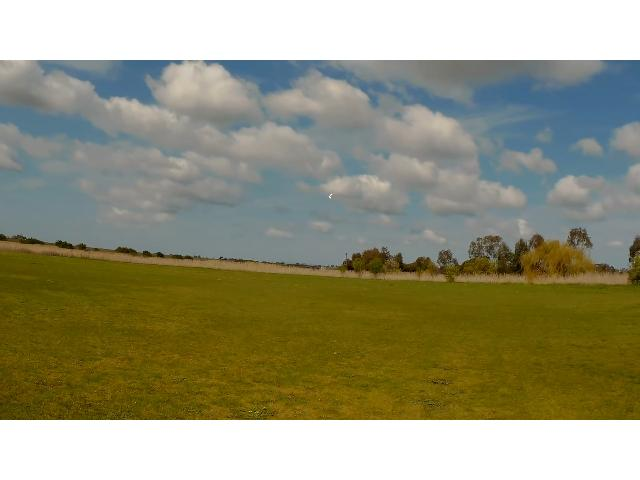Anti-Drone: (319, 184, 345, 206)
